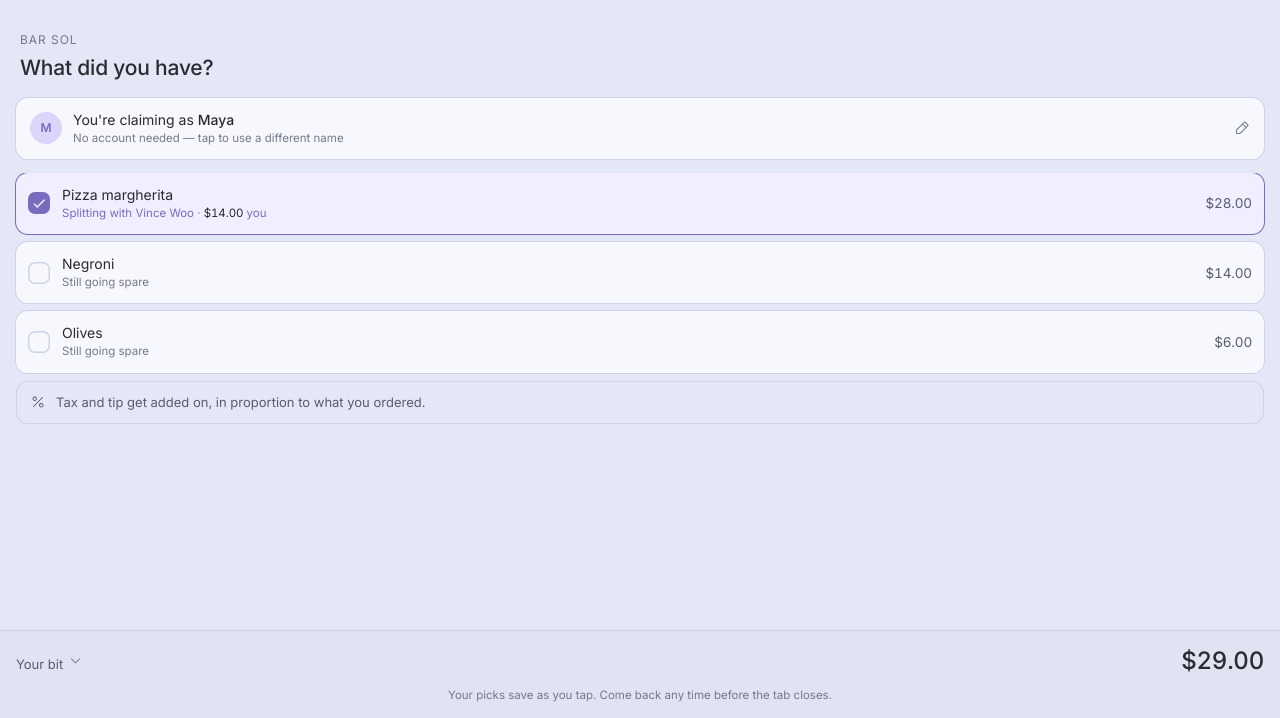
Scenario: TabClaimPage running total › moves the total, and the working, as items are claimed
Click the button "Your bit $29.00": coordinates (40, 664) [16,645,1264,677]
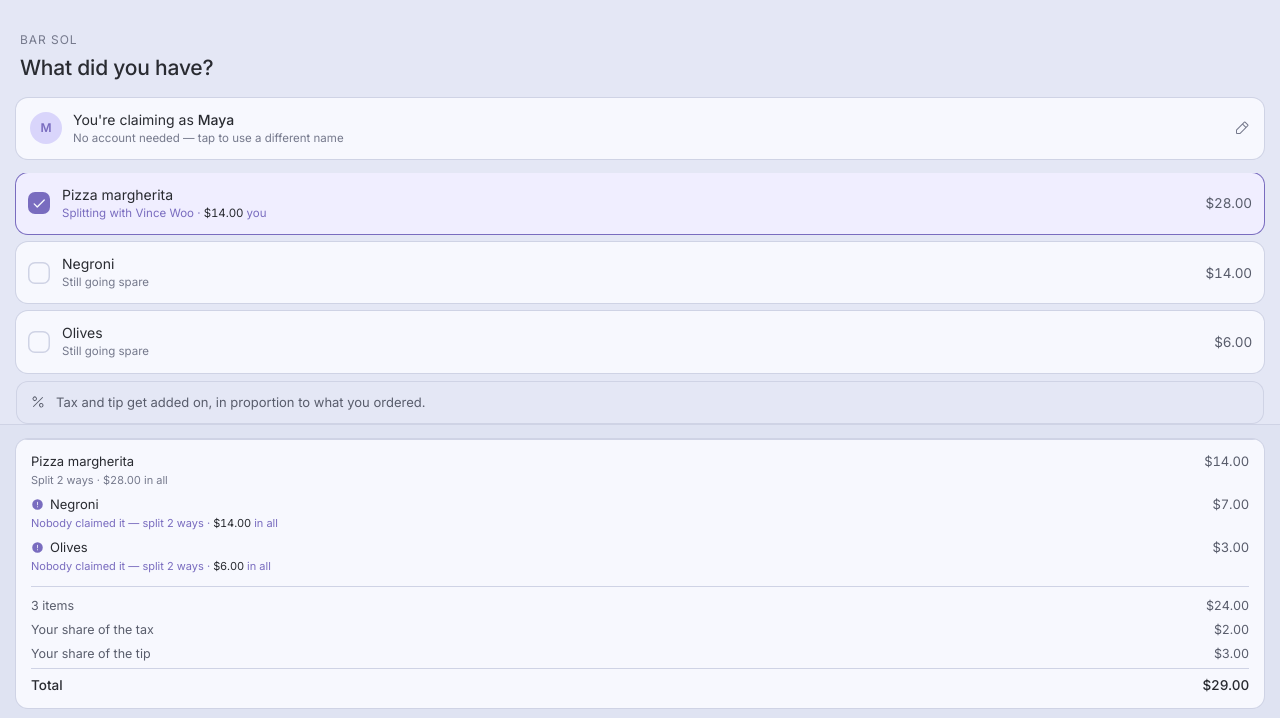
Click the button "Negroni Still going spare $14.00": coordinates (88, 264) [16,242,1264,303]
(page scrolled)
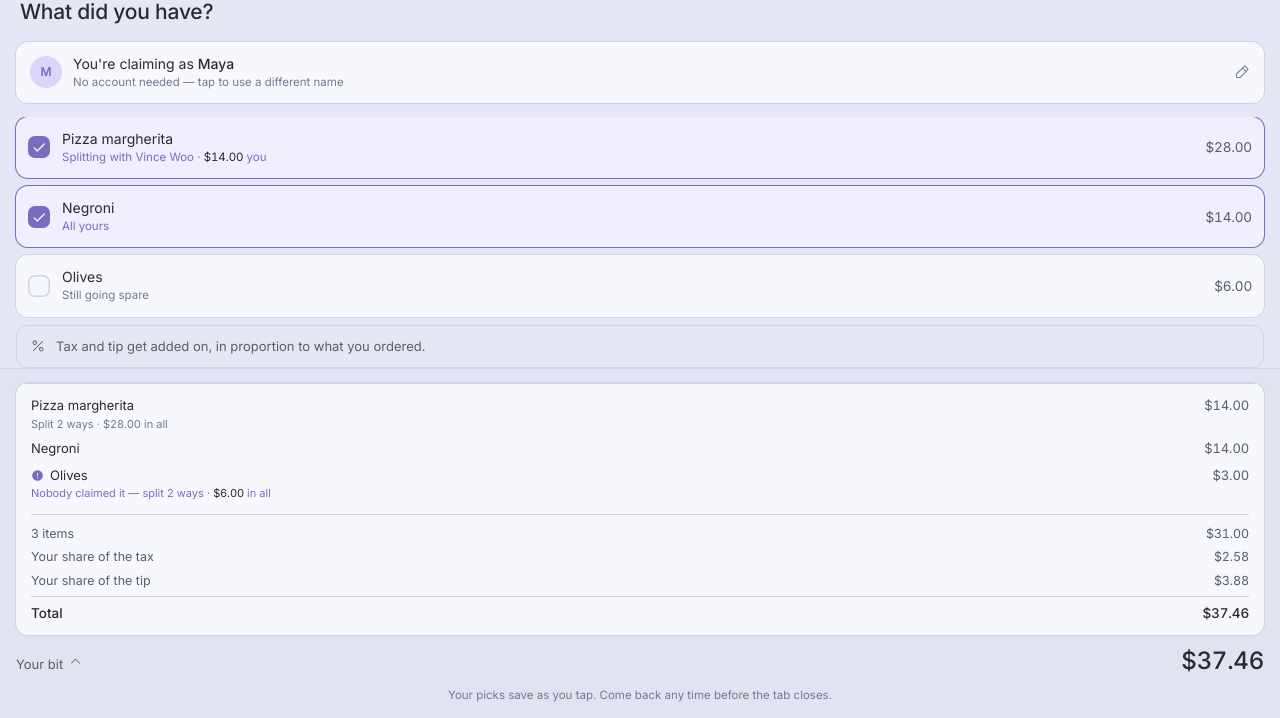
Expected: the text "Negroni" is shown 2 times, [62,199,114,216]; [31,439,80,458]
Now the button "Your bit $37.46" is shown, box [16,645,1264,677]
